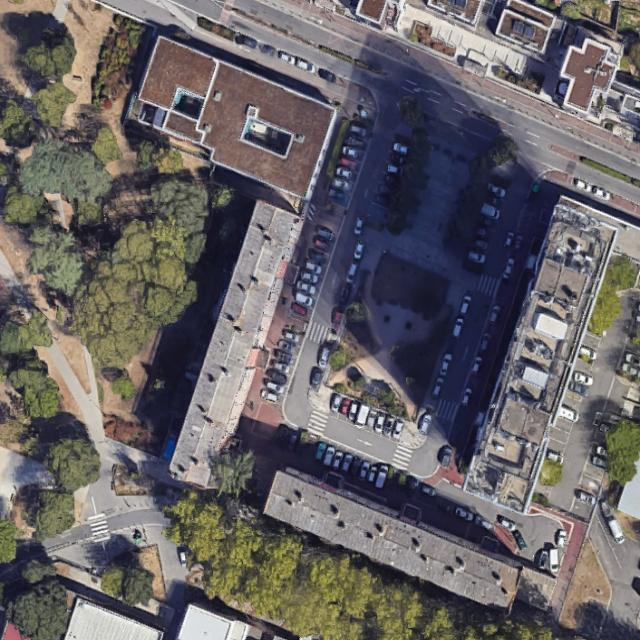immeuble: (457, 195, 622, 514), (164, 199, 307, 491), (260, 463, 527, 614), (122, 35, 345, 202), (404, 0, 556, 61), (550, 35, 624, 119), (64, 597, 161, 639), (176, 603, 233, 640)
